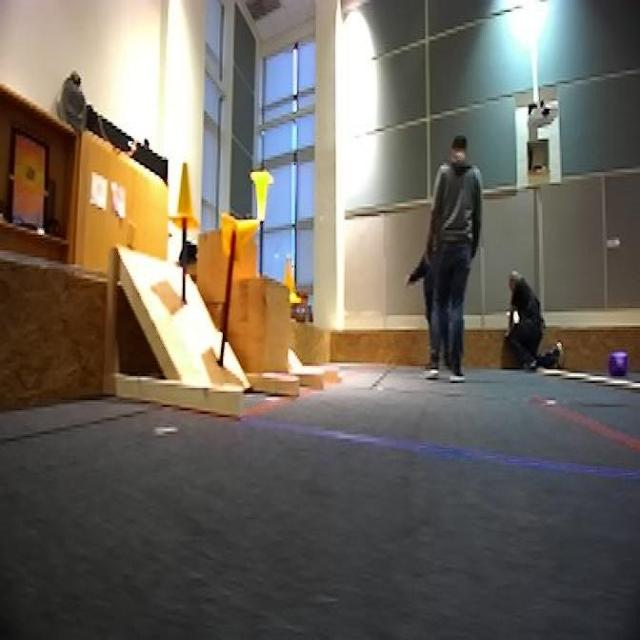frc_cone: (170, 156, 201, 230), (220, 209, 260, 259), (250, 170, 274, 223), (281, 253, 302, 310)
frc_cube: (608, 349, 628, 380)
